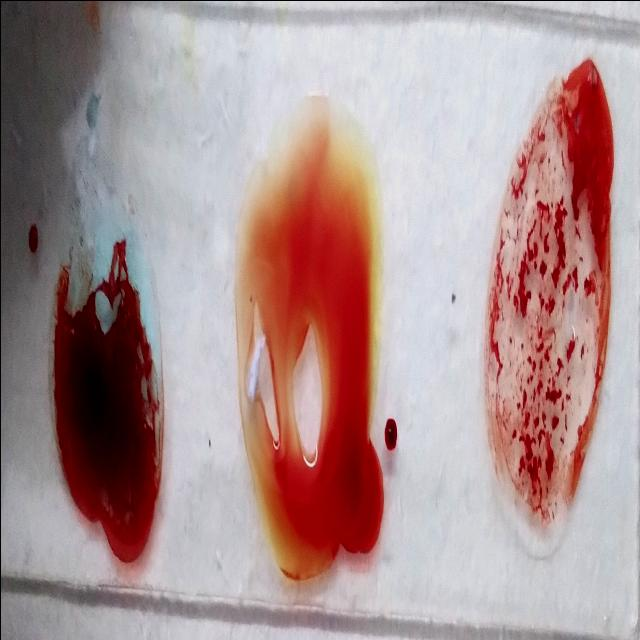A: (52, 111, 169, 548)
D: (491, 60, 608, 537)
